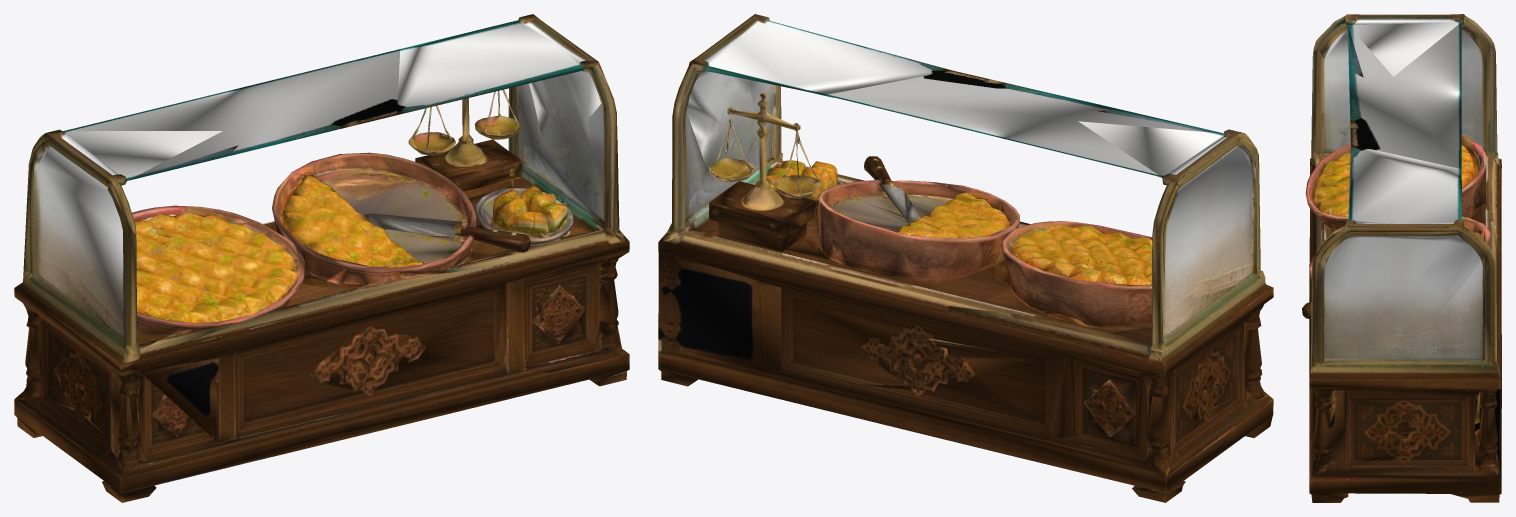
The model's file is city_gaziantep_baklava_counter.glb.
The picture shows the model from 3 angles, left to right: view 1: azimuth 30°, elevation 25°; view 2: azimuth 150°, elevation 25°; view 3: azimuth 270°, elevation 25°; orthographic projection. The views are drawn at different scales.
Parts seen in each view (by area): view 1: Mesh1.0; view 2: Mesh1.0; view 3: Mesh1.0.
Part boxes in pixels (x1,y1,x2,y2): Mesh1.0: (14,14,629,502); Mesh1.0: (658,14,1273,502); Mesh1.0: (1302,14,1501,502).
Size of the model in its own units: 2.26 by 1.3 by 0.8607.
Materials: 1 (1 with a texture image).
